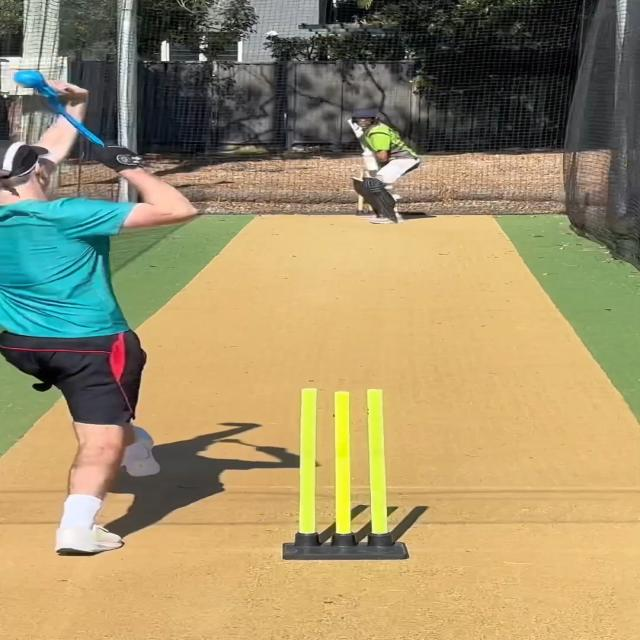stump: (280, 384, 414, 563)
